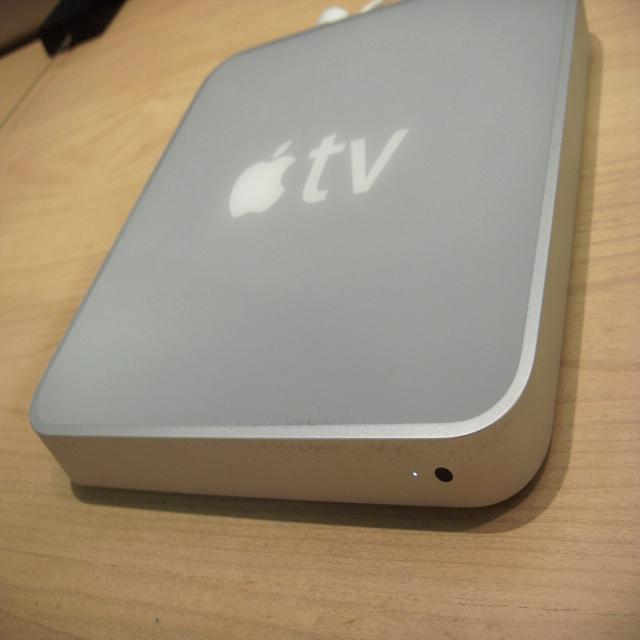apple: (224, 137, 296, 224)
